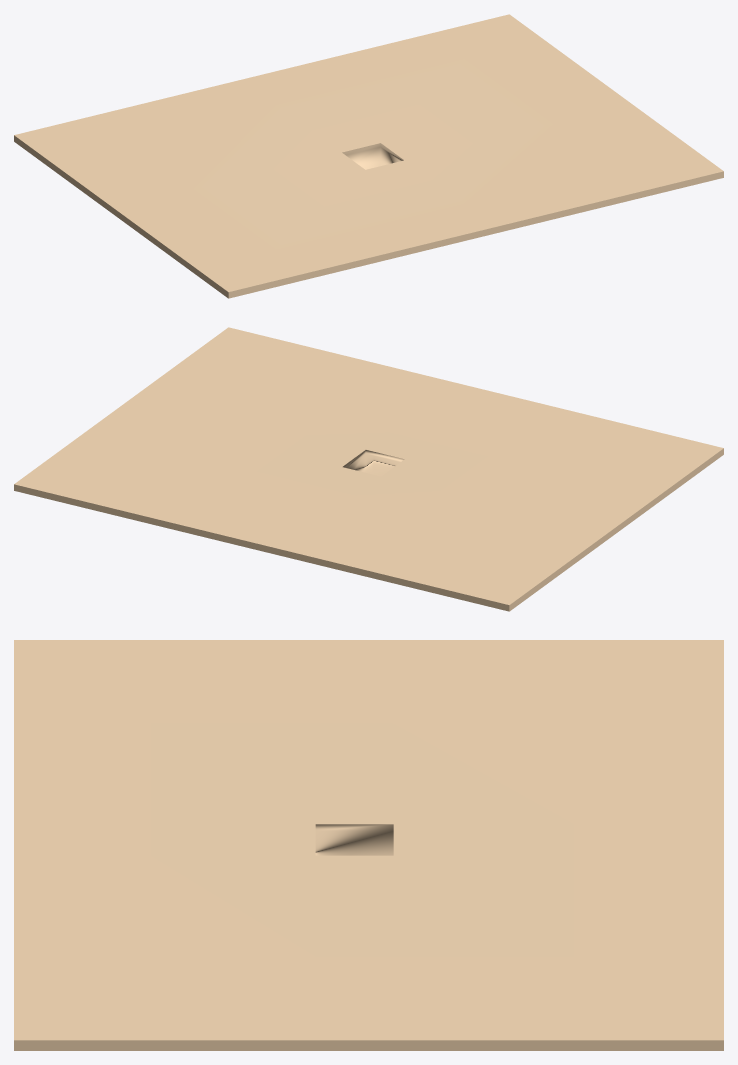
Rendered from ExitFloor.fbx.
3 renders of one model, top to bottom at view 1: azimuth 30°, elevation 25°; view 2: azimuth 150°, elevation 25°; view 3: azimuth 270°, elevation 25°, orthographic. The views are drawn at different scales.
Parts seen in each view (by area): view 1: Floor; view 2: Floor; view 3: Floor.
Boxes of the visible parts, x1,y1,x2,y2 form: Floor: (14, 14, 723, 298); Floor: (14, 327, 723, 611); Floor: (14, 640, 723, 1050).
Bounding box in the file's own units: 8000 × 468 × 6000.
